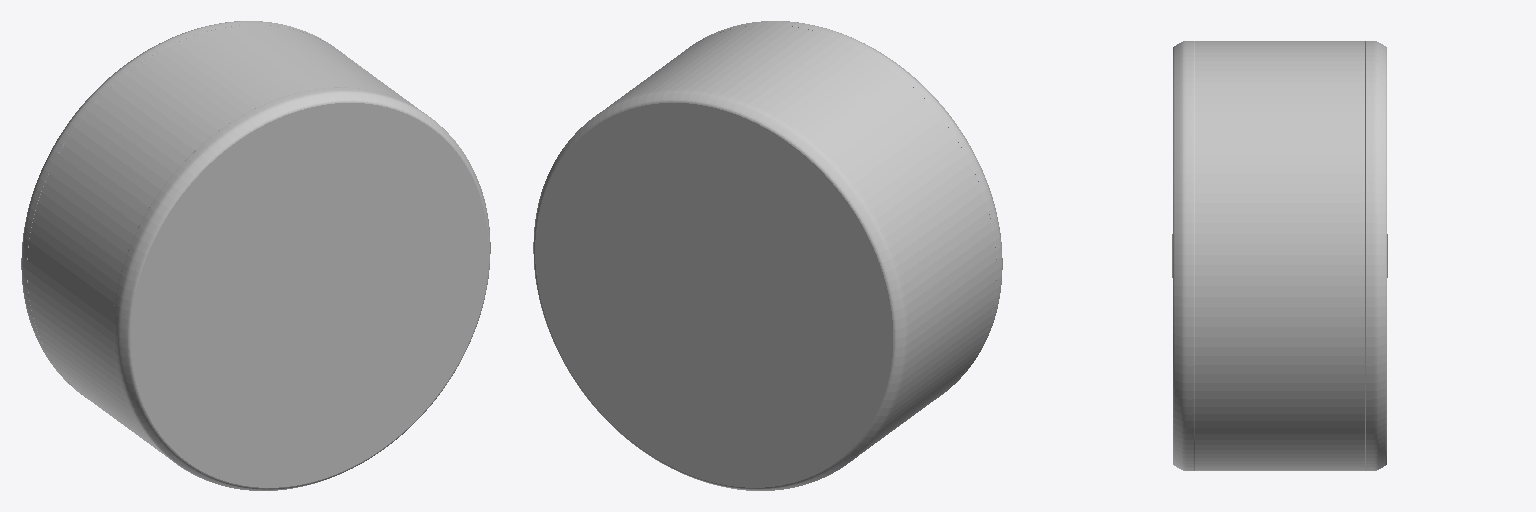
The model's file is puck.obj.
3 views of the same model, side by side, from view 1: azimuth 30°, elevation 25°; view 2: azimuth 150°, elevation 25°; view 3: azimuth 270°, elevation 25° (orthographic).
Visible parts, largest first — view 1: Cylinder03; view 2: Cylinder03; view 3: Cylinder03.
Boxes of the visible parts, box(x1,y1,x2,y2) form: Cylinder03: box(21, 21, 490, 490); Cylinder03: box(533, 21, 1002, 490); Cylinder03: box(1172, 41, 1387, 470).
Bounding box in the file's own units: 1 × 1 × 0.5.